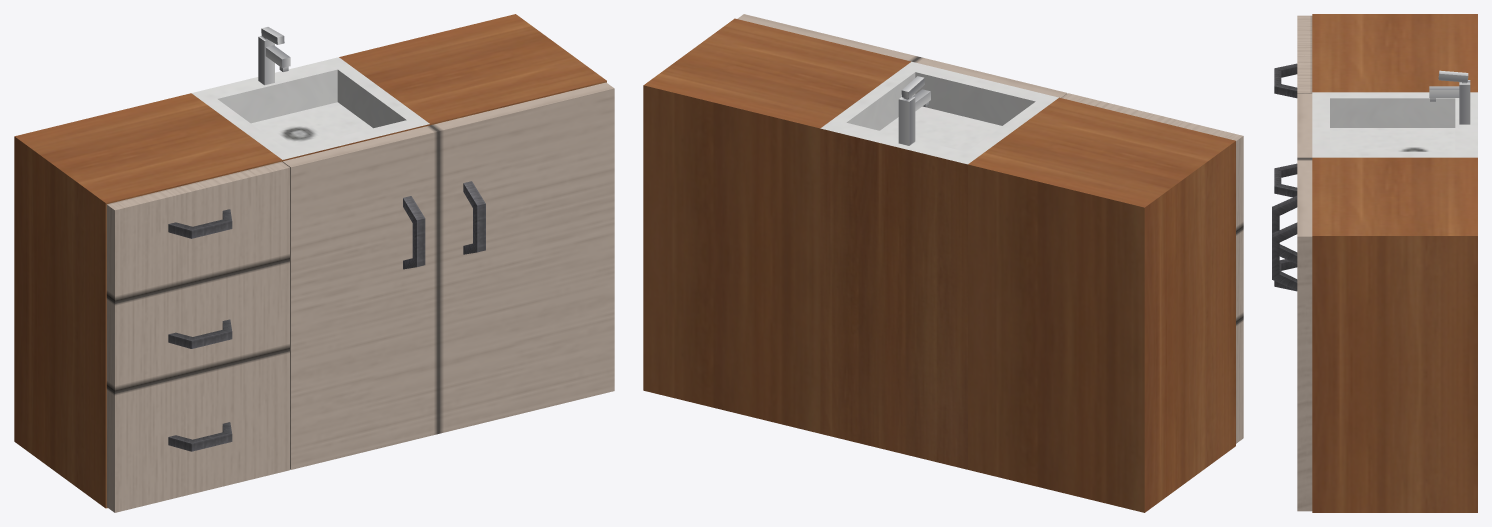
File: Bath_Wash_basin_1A.fbx
The picture shows the model from 3 angles, left to right: view 1: azimuth 30°, elevation 25°; view 2: azimuth 150°, elevation 25°; view 3: azimuth 270°, elevation 25°; orthographic projection. The views are drawn at different scales.
Parts seen in each view (by area): view 1: polySurface1548; view 2: polySurface1548; view 3: polySurface1548.
Boxes of the visible parts, x1,y1,x2,y2 form: polySurface1548: (14,14,614,512); polySurface1548: (643,14,1243,512); polySurface1548: (1272,14,1477,512).
Bounding box in the file's own units: 2.21 × 1.52 × 0.8661.
